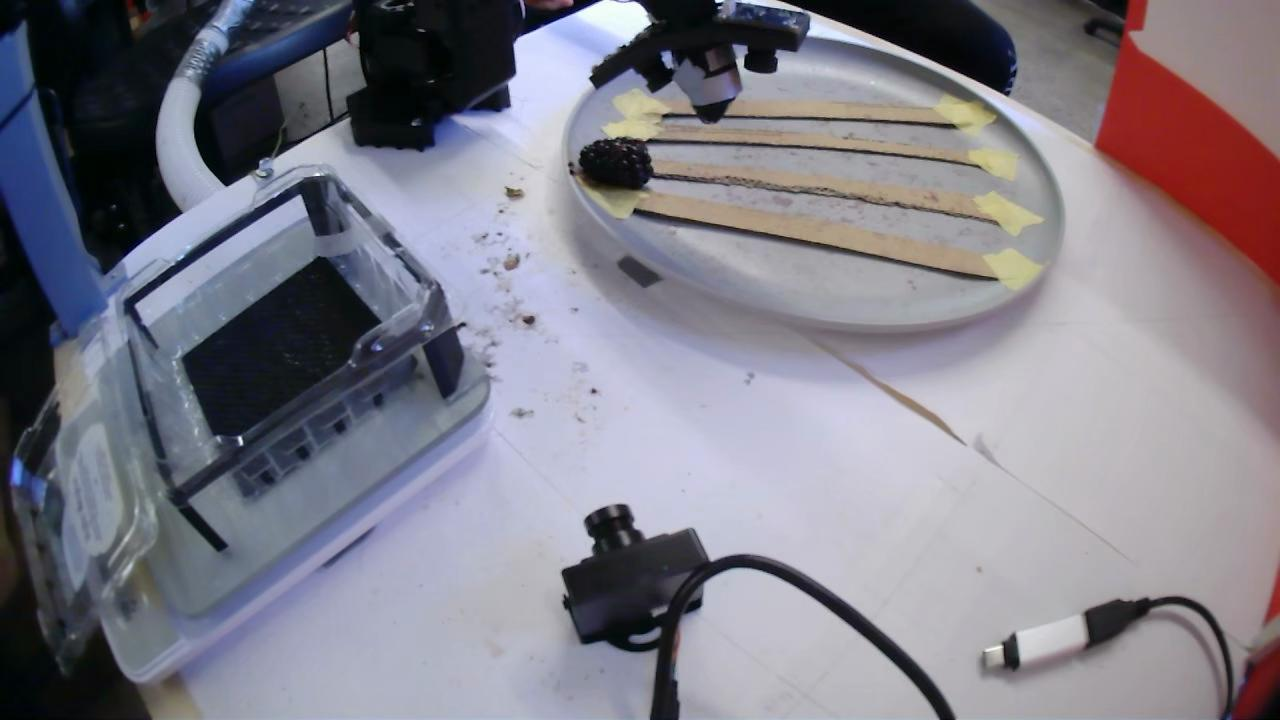berry: (579, 137, 653, 190)
